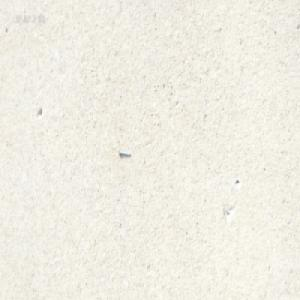Nail: (118, 148, 131, 156)
